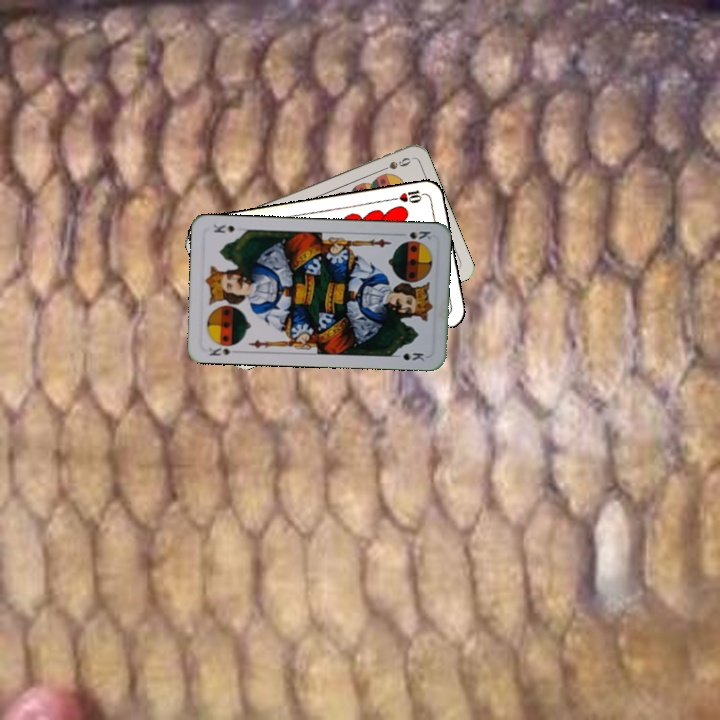H10: (388, 186, 428, 206)
S9: (374, 153, 414, 175)
SK: (205, 339, 242, 359), (394, 227, 433, 242)
